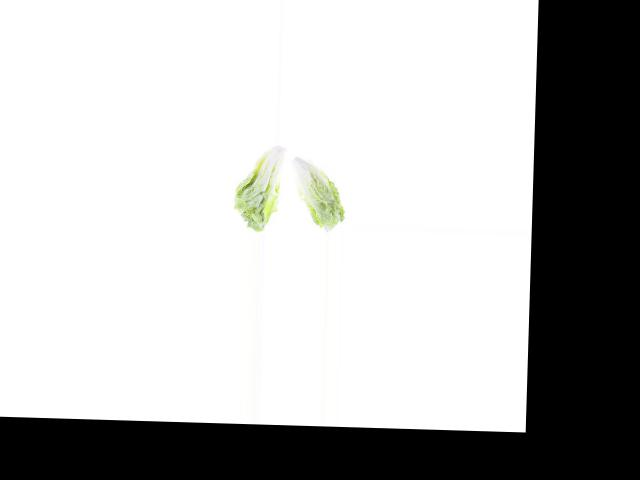lettuce: (289, 147, 348, 231)
